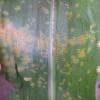Corn rust leaf: (1, 0, 99, 100)
